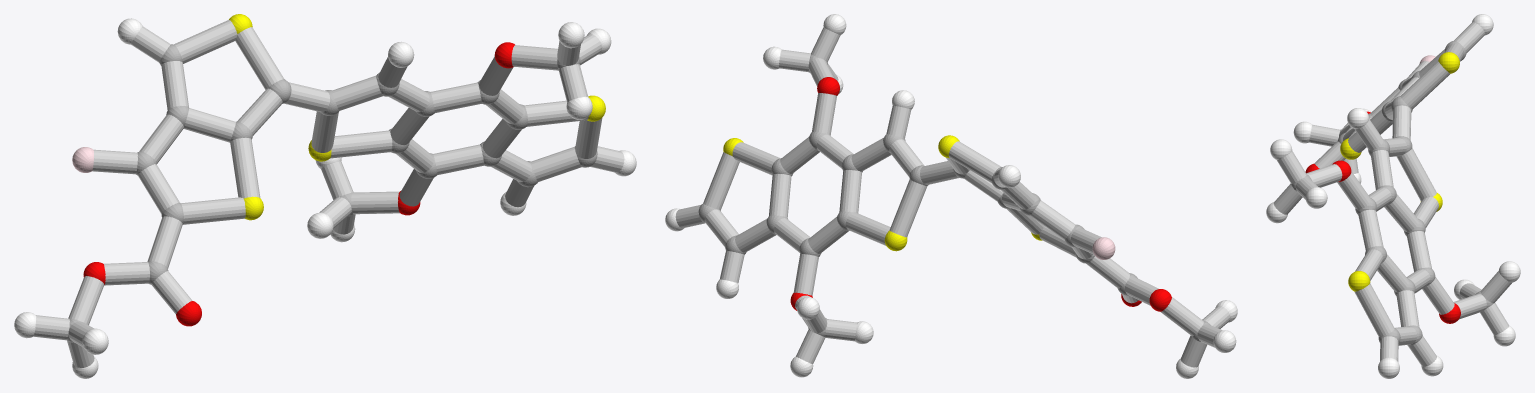
File: Dimethoxy_Benzodithiophene_Phi_30_Theta_70_Methylcarbonyl_3_Fluoro_Thienothiophene.glb
3 renders of one model, left to right at view 1: azimuth 30°, elevation 25°; view 2: azimuth 150°, elevation 25°; view 3: azimuth 270°, elevation 25°, orthographic. The views are drawn at different scales.
Visible parts, largest first — view 1: grp15205, grp8689, grp1, grp13395, grp7241; view 2: grp15205, grp8689, grp1, grp13395, grp7241; view 3: grp15205, grp8689, grp1, grp7241, grp13395.
Boxes of the visible parts, x1,y1,x2,y2 form: grp15205: [33, 20, 624, 367]; grp8689: [14, 18, 636, 378]; grp1: [67, 44, 597, 342]; grp13395: [83, 42, 514, 326]; grp7241: [229, 14, 605, 220]; grp15205: [675, 27, 1230, 367]; grp8689: [665, 14, 1237, 378]; grp1: [698, 54, 1210, 341]; grp13395: [790, 77, 1171, 311]; grp7241: [723, 135, 1042, 251]; grp15205: [1273, 22, 1511, 366]; grp8689: [1266, 14, 1520, 378]; grp1: [1291, 40, 1493, 345]; grp7241: [1340, 52, 1459, 291]; grp13395: [1305, 111, 1460, 323].
Size of the model in its own units: 16.7 by 7.35 by 6.93.
